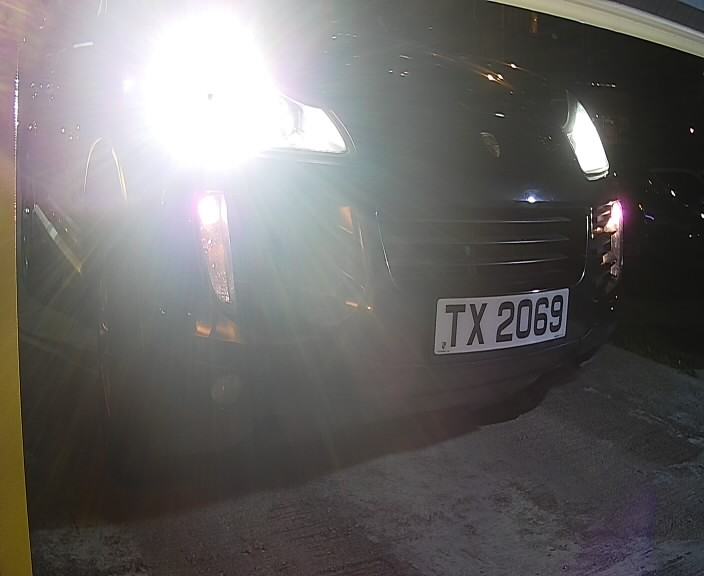License Plate: (417, 282, 585, 364)
